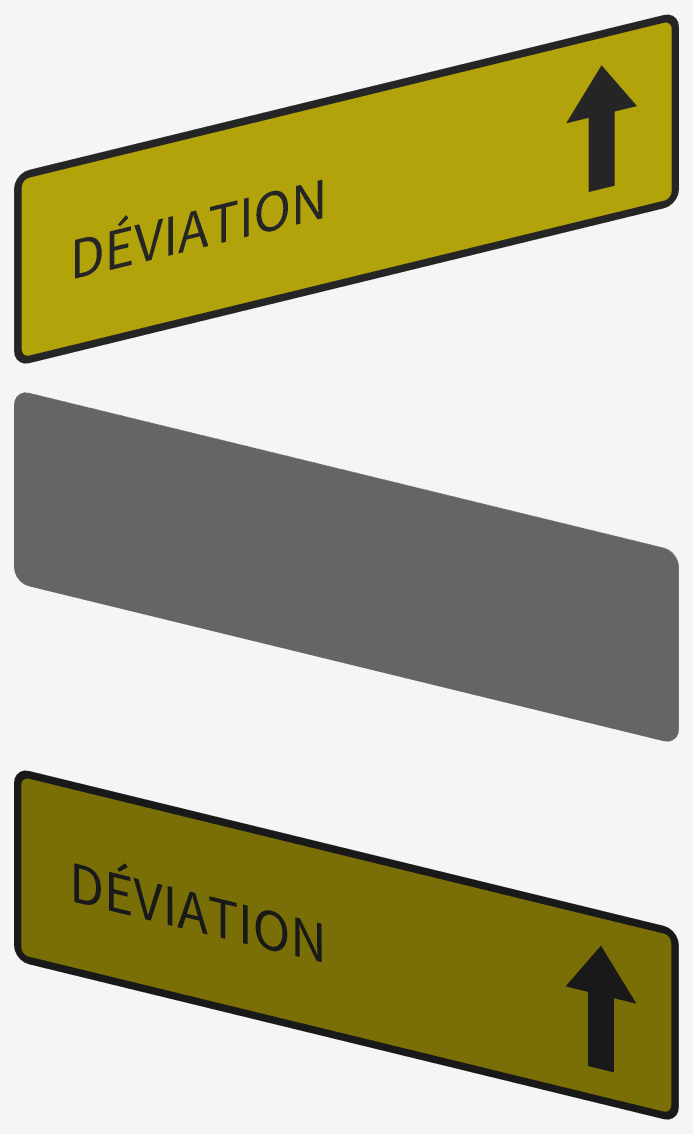
3 renders of one model, top to bottom at view 1: azimuth 30°, elevation 25°; view 2: azimuth 150°, elevation 25°; view 3: azimuth 330°, elevation 25°, orthographic.
Visible parts, largest first — view 1: KD42a_fond01, KD42a_cadre00, KD42a_fl02, KD42a_txt03, KD42a_dos; view 2: KD42a_dos; view 3: KD42a_fond01, KD42a_cadre00, KD42a_fl02, KD42a_txt03, KD42a_dos.
Part boxes in pixels (x1,y1,x2,y2): KD42a_fond01: (21,22,671,355); KD42a_cadre00: (14,14,678,363); KD42a_fl02: (566,65,636,191); KD42a_txt03: (75,179,322,278); KD42a_dos: (14,14,669,358); KD42a_dos: (14,392,678,741); KD42a_fond01: (21,778,671,1111); KD42a_cadre00: (14,770,678,1119); KD42a_fl02: (566,946,636,1072); KD42a_txt03: (74,863,321,962); KD42a_dos: (23,770,678,1114).
Bounding box in the file's own units: 1.8 × 0.5 × 0.0029.
